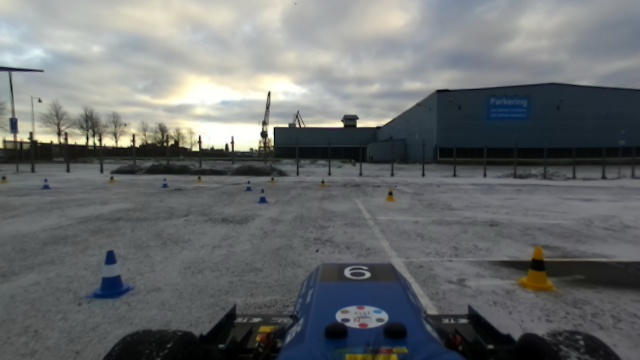blue: (90, 250, 135, 301)
yellow: (518, 245, 555, 293)
